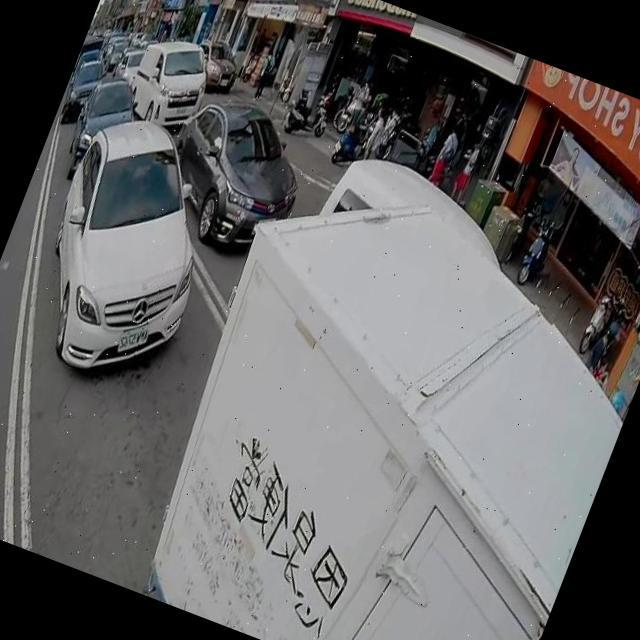person: (426, 118, 468, 190), (448, 131, 486, 203), (354, 102, 394, 166), (584, 315, 623, 377), (342, 77, 376, 136), (372, 108, 406, 163), (252, 47, 280, 102), (449, 107, 474, 141)
